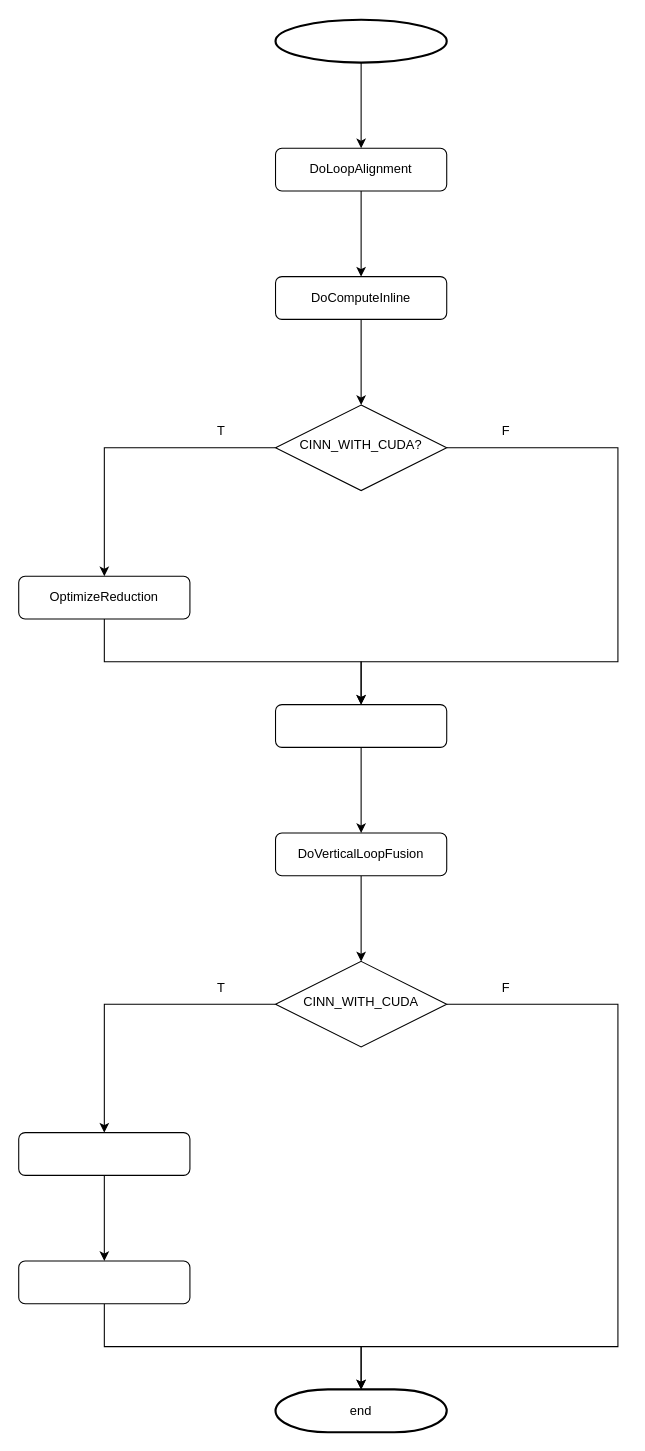
The diagram is 645 pixels wide and 1451 high, and some of its shapes have lost their labels. Here are the shapes that lost their labels. From the top down, the centre of each, then its label:
At point 360,40: "start".
At point 360,725: "DoHorizontalLoopFusion".
At point 104,1153: "BindCudaAxis".
At point 104,1282: "AllocateStorage".
